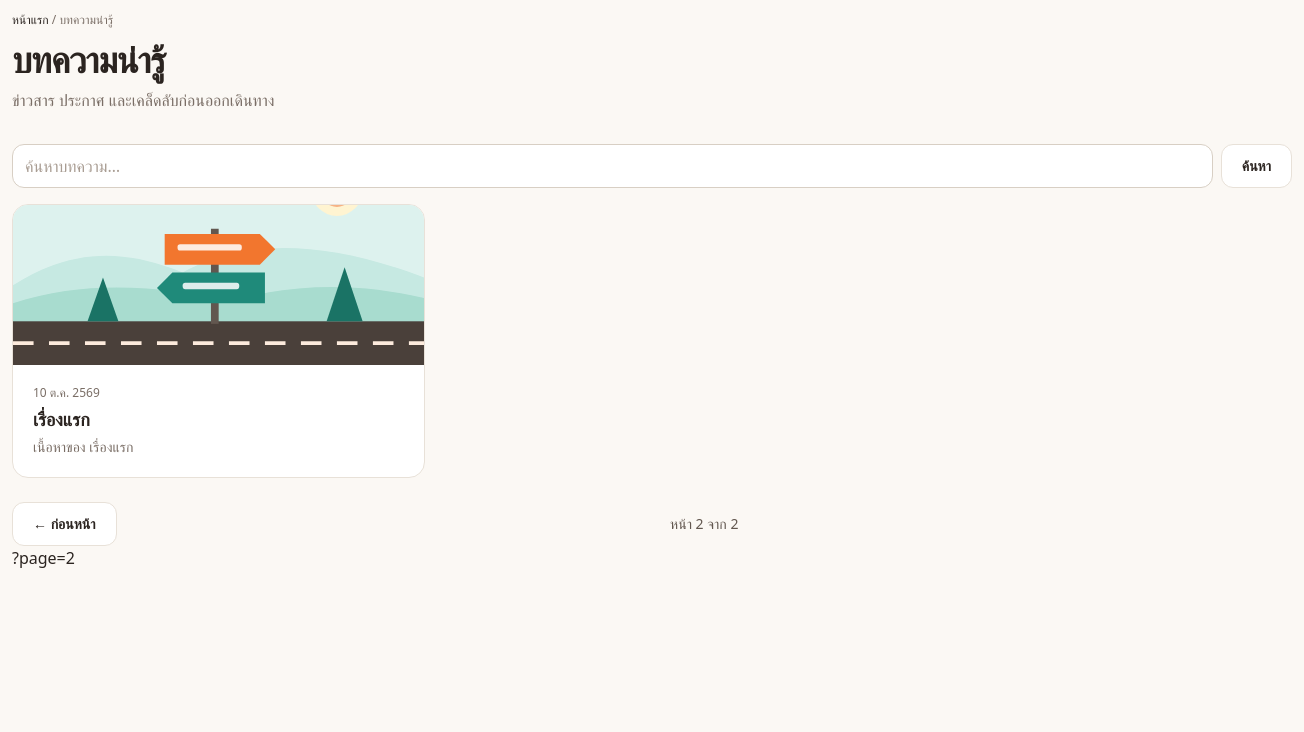
it: ค้นหา: ใส่คำใน URL กลับไปหน้า 1 และไม่เจอก็บอกว่าไม่เจออะไร
Expected: the link "เรื่องแรก" is shown, [33,407,90,431]
Step 1. Type "  แมวส้ม " into the search field named "คำค้น" → (612,166), box [12,144,1213,188]
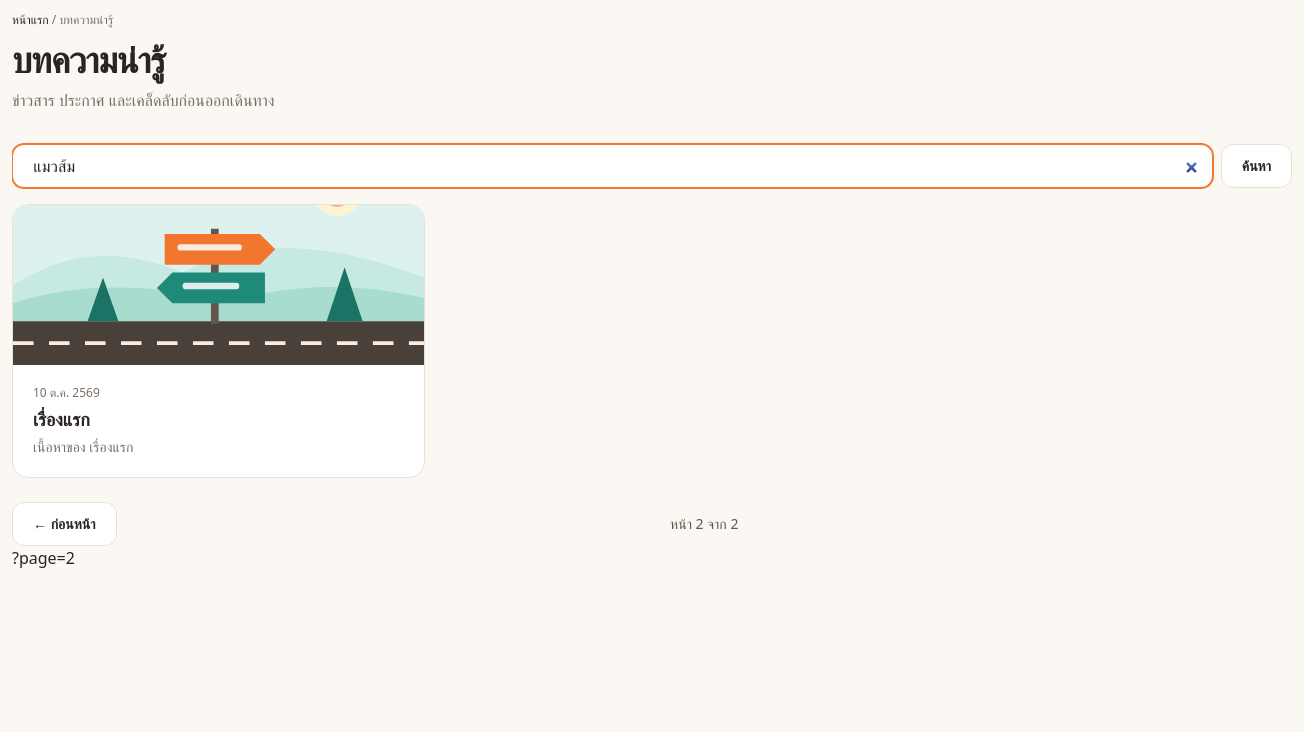
Step 2. Click the button "ค้นหา" → (1256,166), box [1221,144,1292,188]
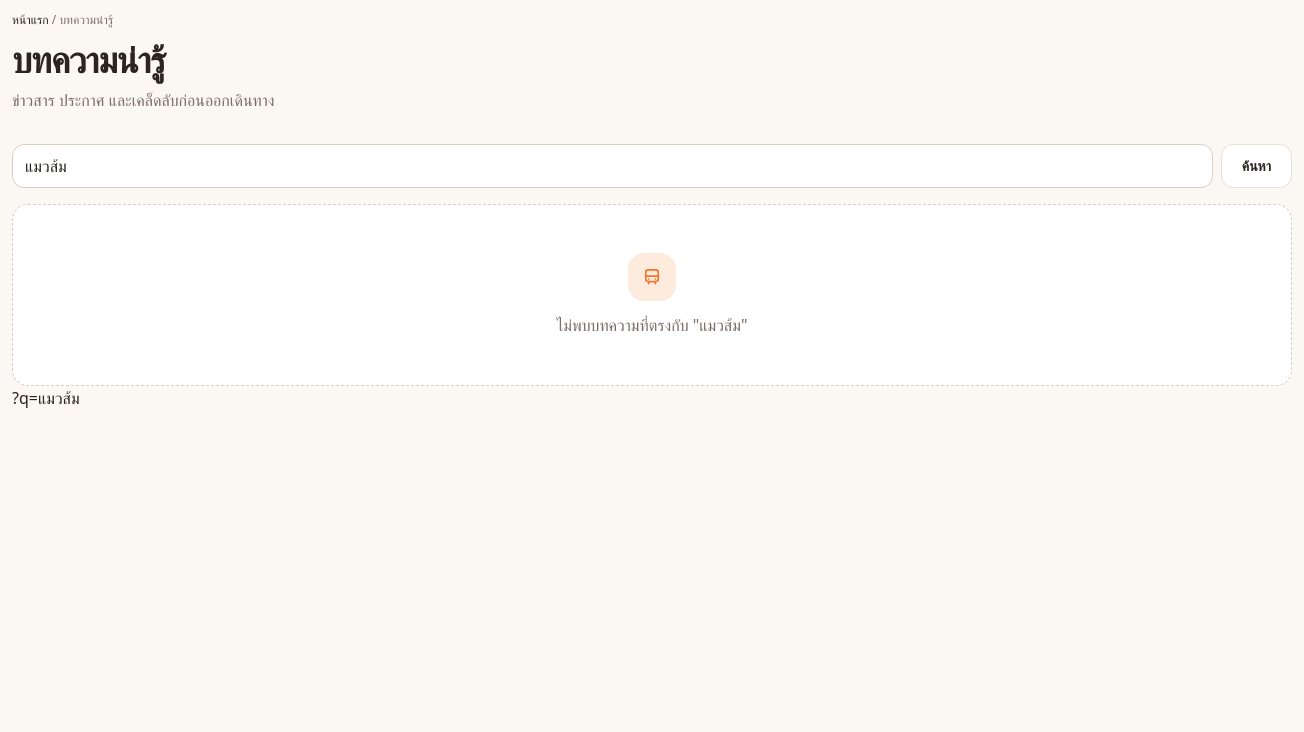
Now the text "ไม่พบบทความที่ตรงกับ \"แมวส้ม\"" is shown, box [556,314,747,336]
Now the text with test id "url" reads "?q=แมวส้ม", box [12,387,80,409]
